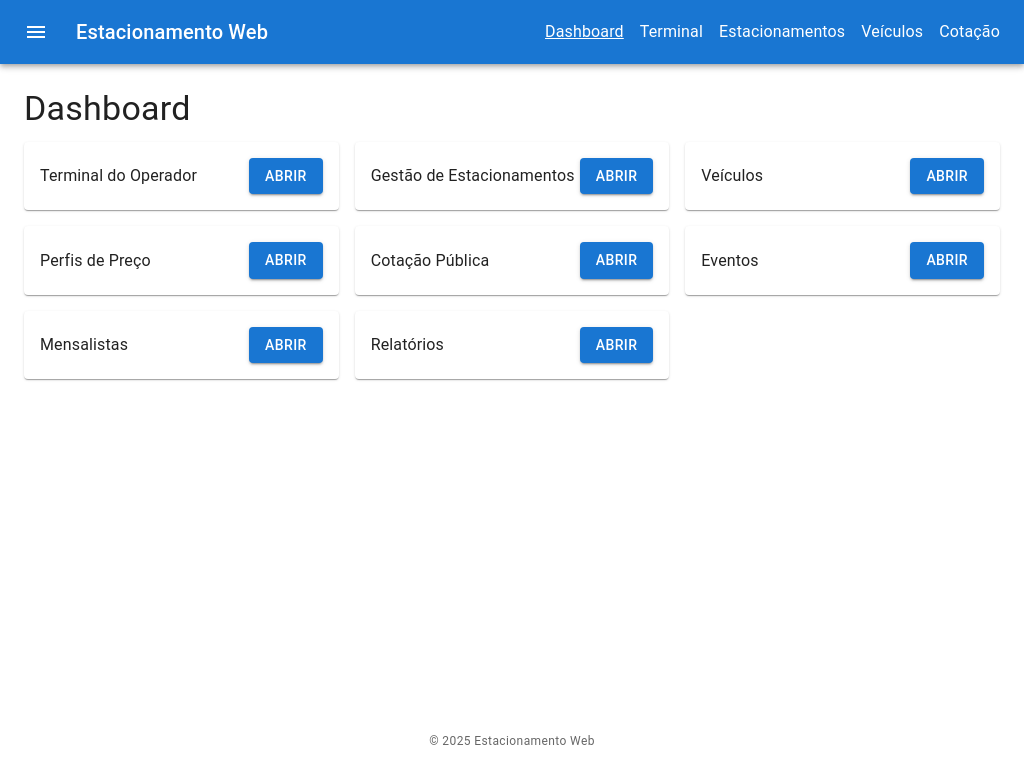
Test: Navigation › navigates via top bar links
Expected: the heading "Dashboard" is shown, [24,88,191,128]
Note: Go to Terminal (exact match to avoid 'Terminal do Operador' button)
Step 1. Click the link "Terminal" → (671, 32), box [640,20,703,44]
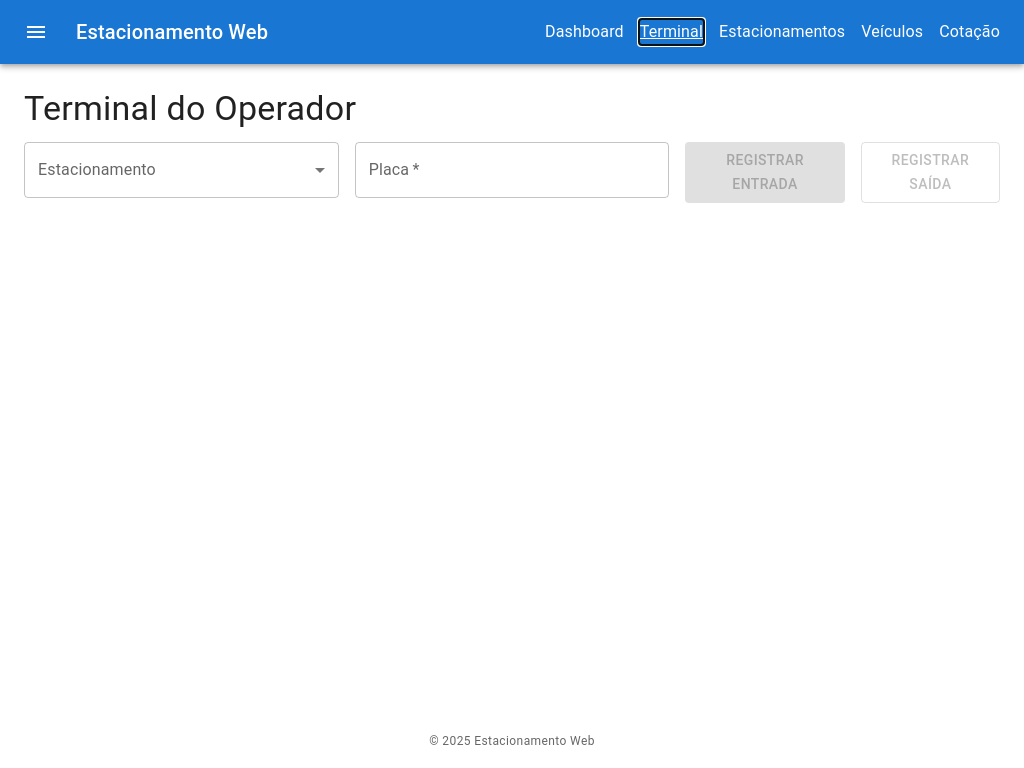
Now the heading "Terminal do Operador" is shown, box [24,88,356,128]
Note: Go to Estacionamentos
Step 2. Click the link "Estacionamentos" → (782, 32), box [719,20,845,44]
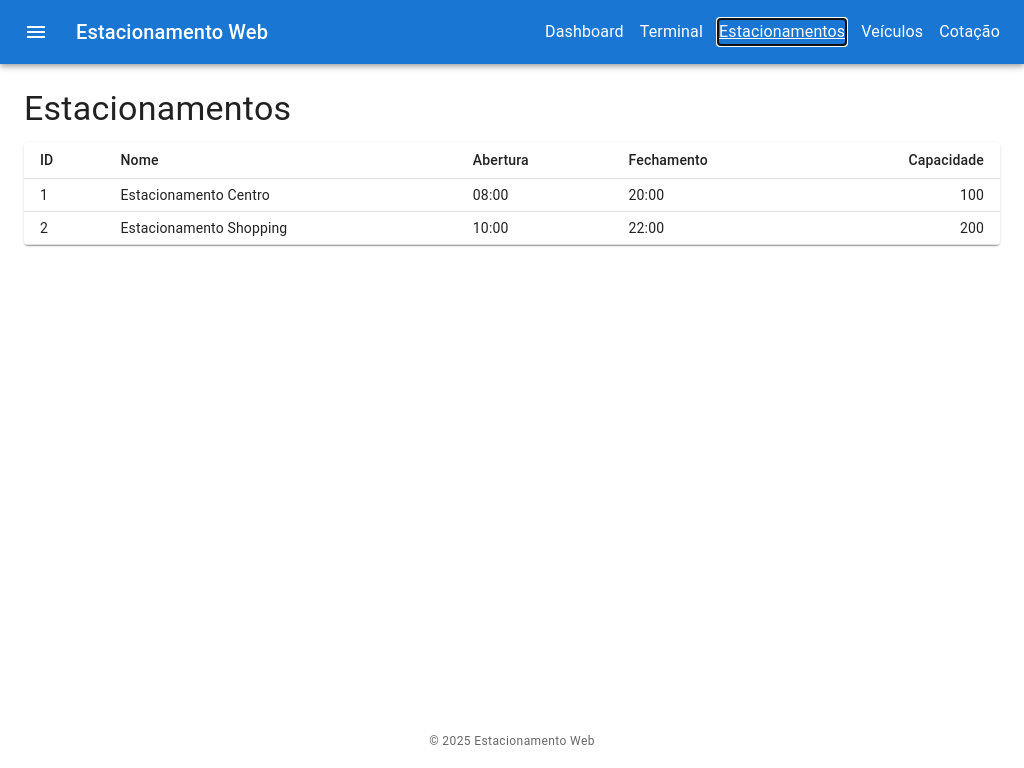
Now the heading "Estacionamentos" is shown, box [24,88,291,128]
Note: Go to Cotação
Step 3. Click the link "Cotação" → (970, 32), box [939,20,1000,44]
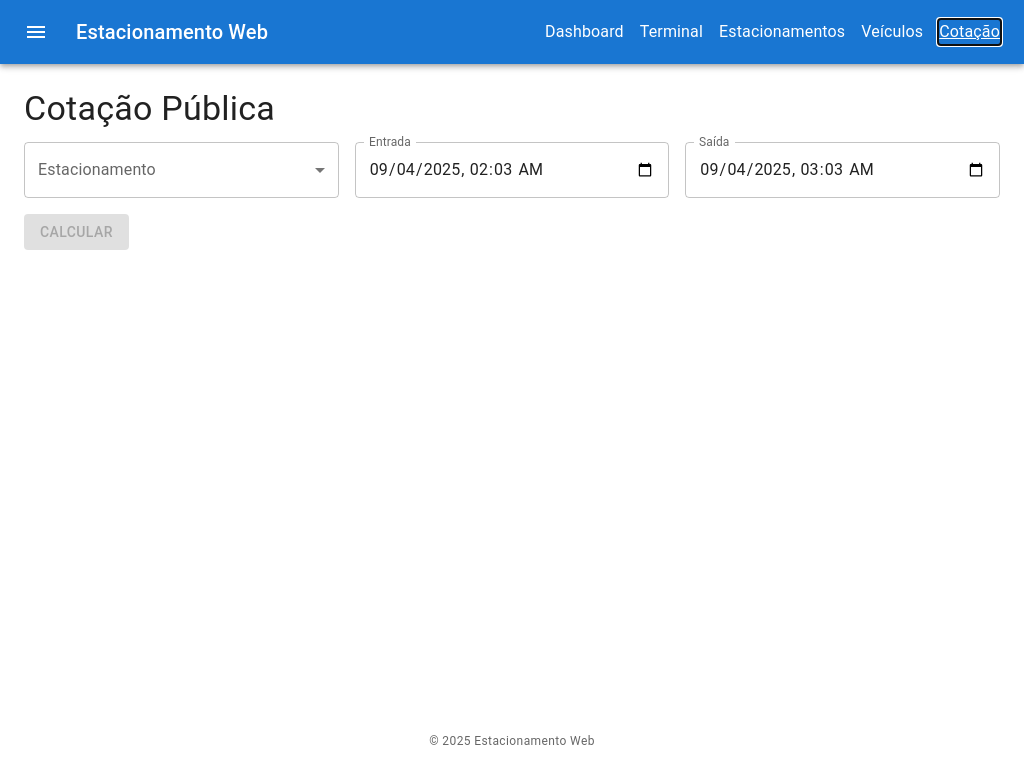
Now the heading "Cotação Pública" is shown, box [24,88,275,128]
